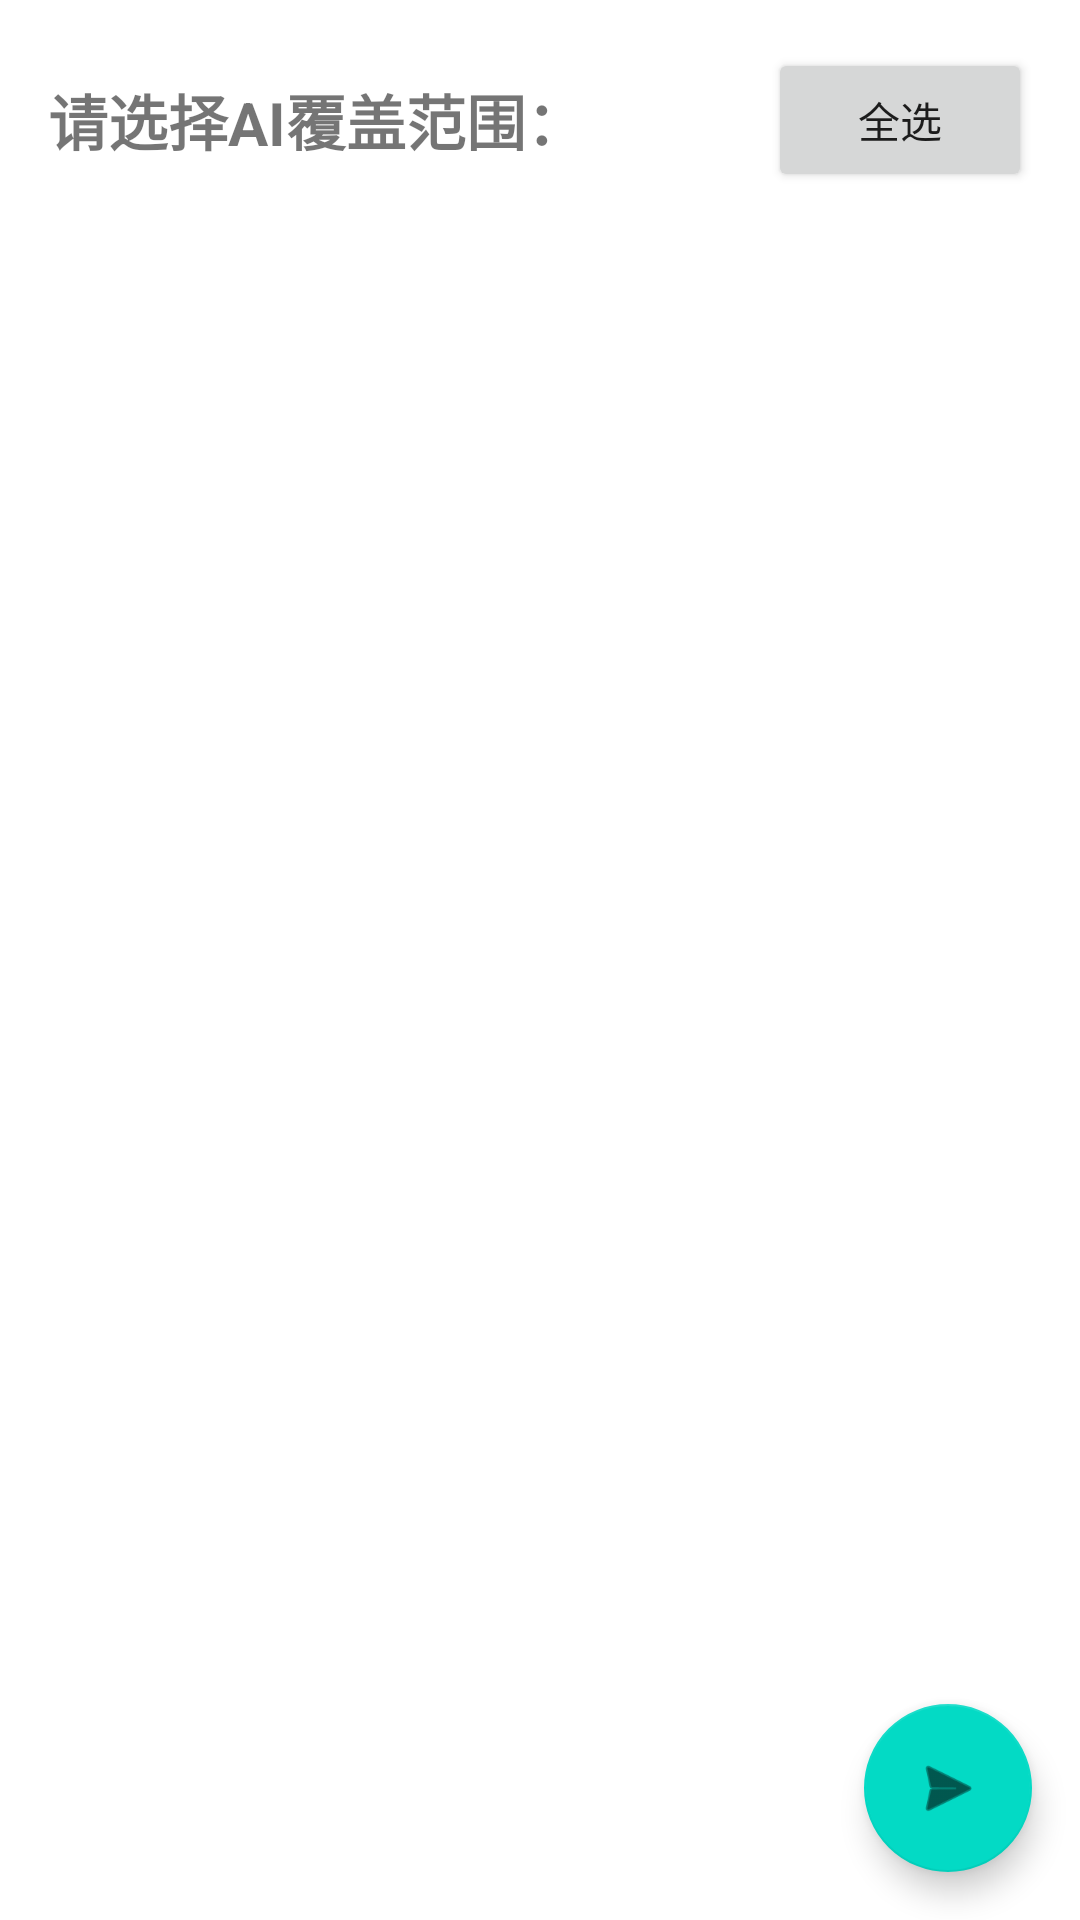

Icon bounding boxes for this 1080x1920 phone screenshot, format (x1, y1, x2, y2):
send: (864, 1704, 1032, 1872)
